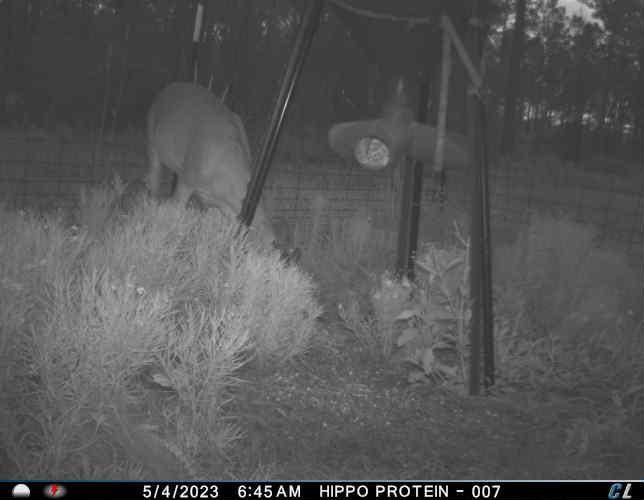Deer: (144, 78, 301, 269)
